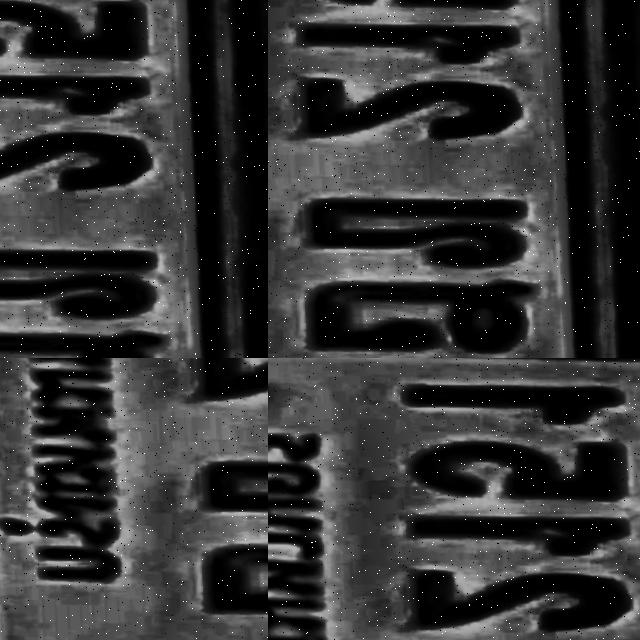license-plate: (268, 358, 640, 640), (72, 245, 268, 358), (577, 324, 640, 358)
